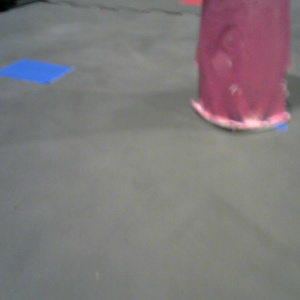Right: (195, 1, 289, 131)
